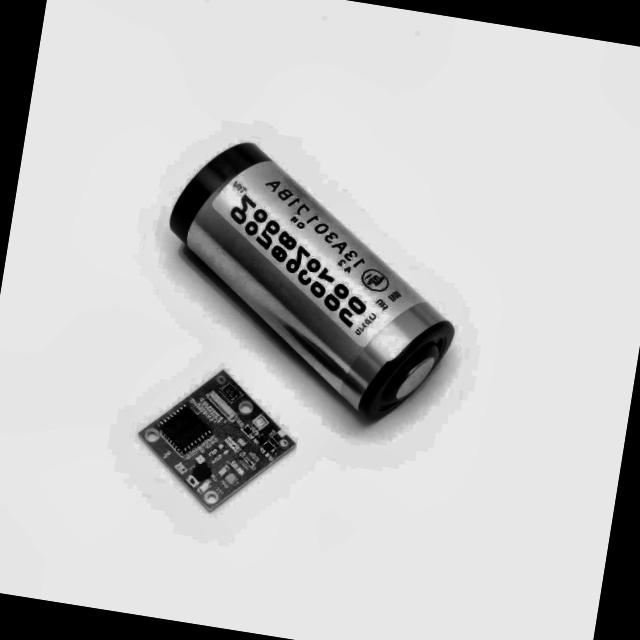Battery: (163, 132, 461, 426)
PCB: (141, 372, 297, 512)
